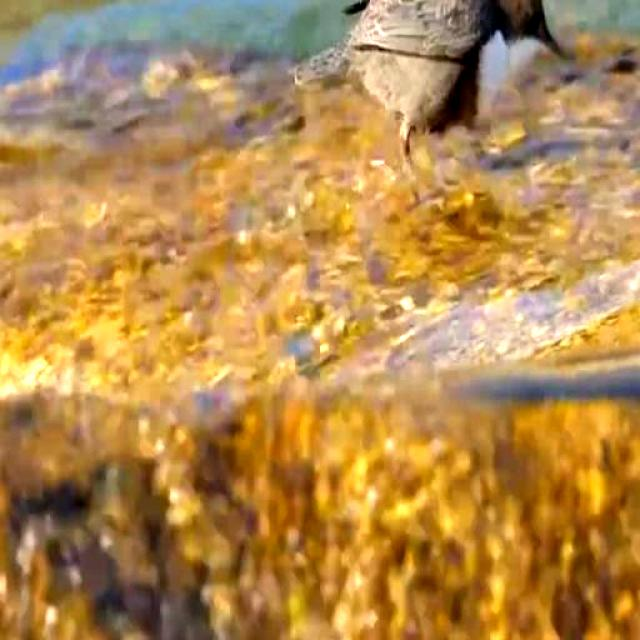airplane: (341, 0, 579, 168)
